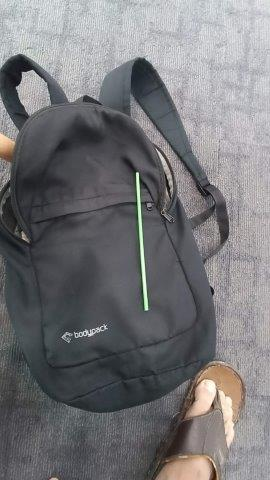sedotan: (136, 173, 148, 311)
